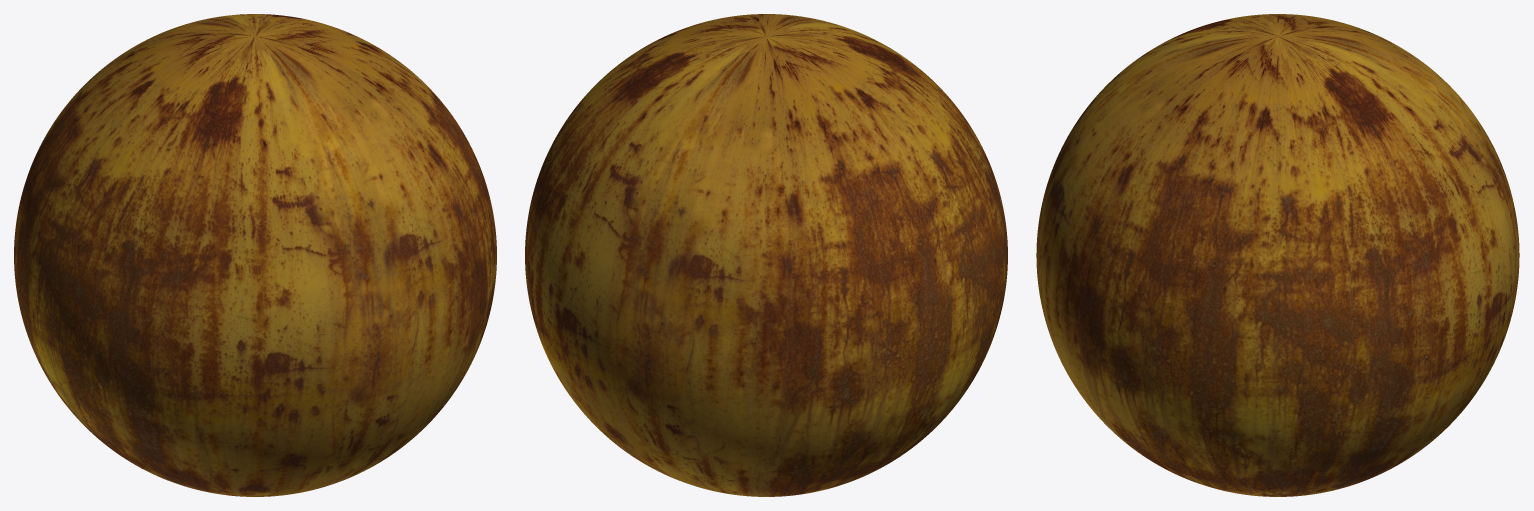
File: rusty_metal_03_1k.gltf
The picture shows the model from 3 angles, left to right: view 1: azimuth 30°, elevation 25°; view 2: azimuth 150°, elevation 25°; view 3: azimuth 270°, elevation 25°; orthographic projection.
Visible parts, largest first — view 1: sphere_gltf; view 2: sphere_gltf; view 3: sphere_gltf.
Boxes of the visible parts, left/top/right/bottom form: sphere_gltf: left=14, top=14, right=496, bottom=496; sphere_gltf: left=525, top=14, right=1007, bottom=496; sphere_gltf: left=1036, top=14, right=1519, bottom=496.
Bounding box in the file's own units: 1.35 × 1.35 × 1.35.
1 material, 1 textured.
